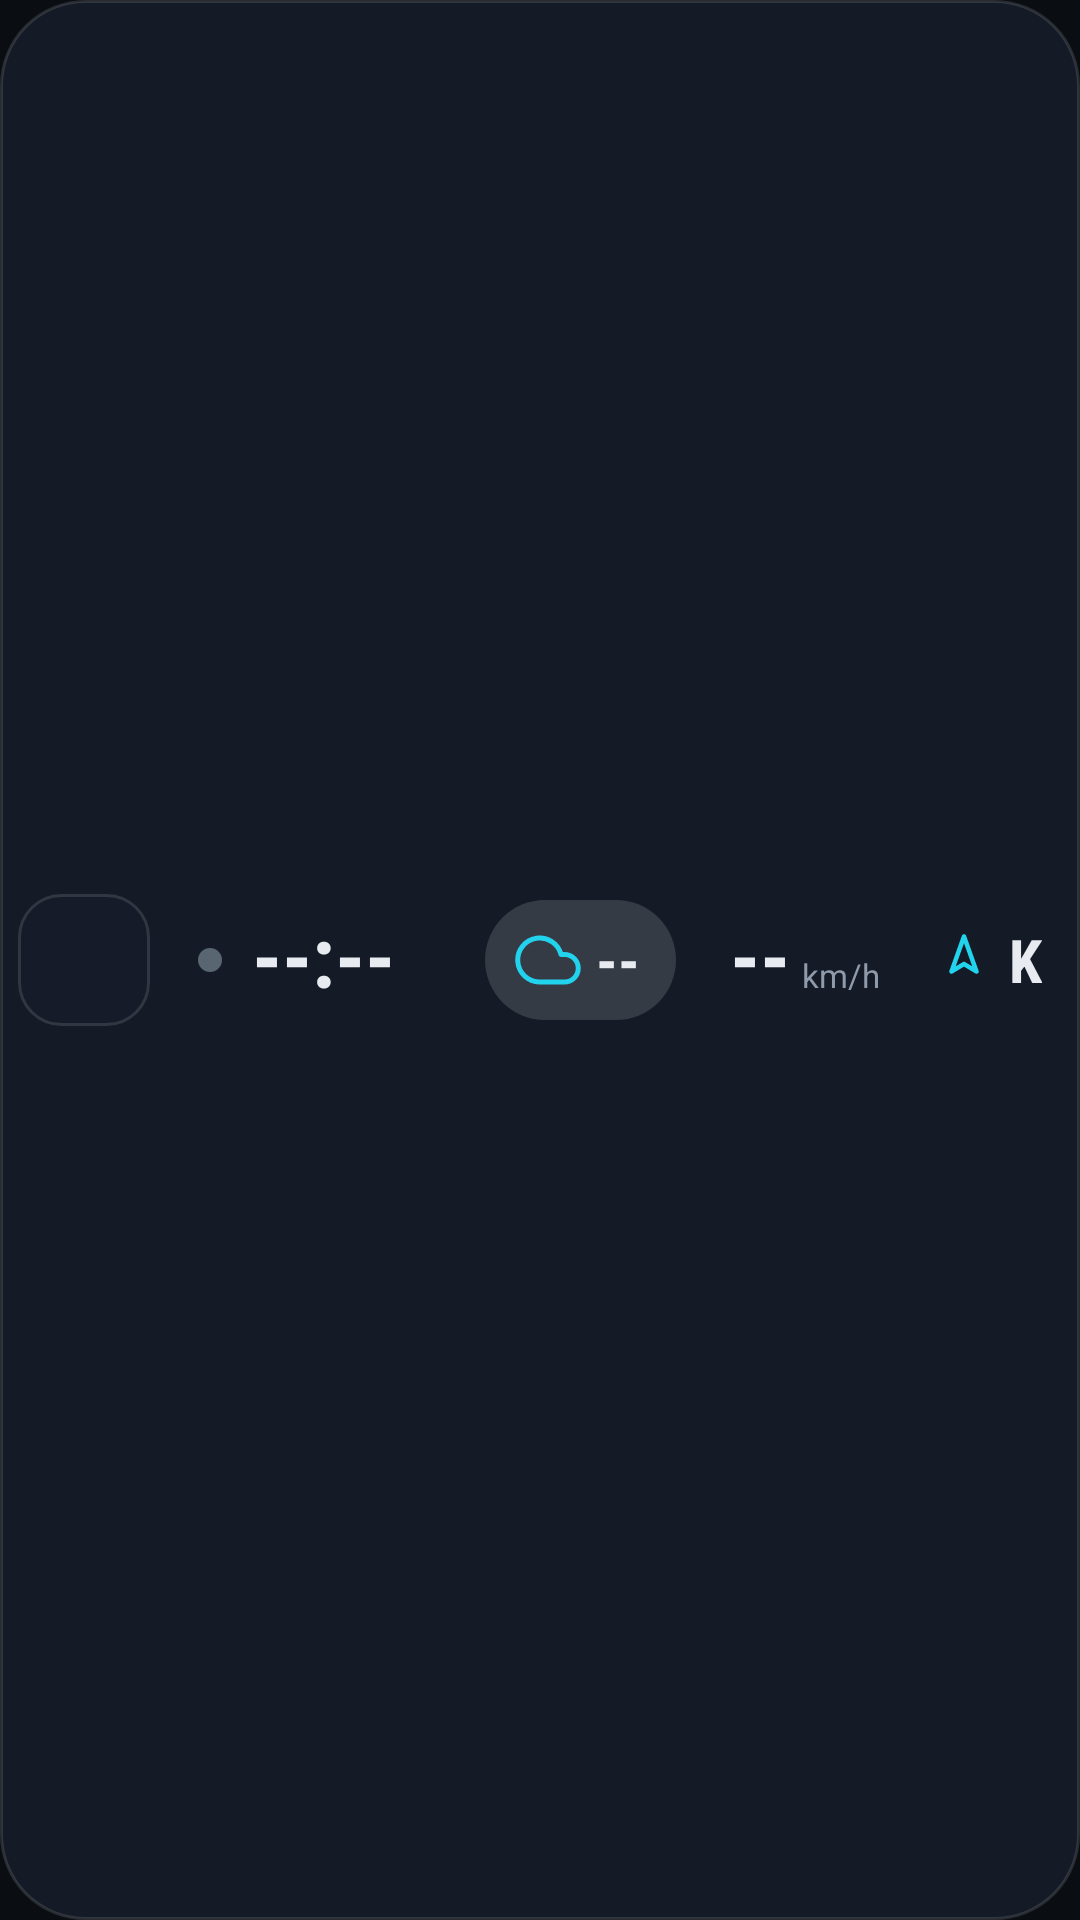

Locate icon controls on the screen. Image size 1080x1920, boxes as detection(x1, y1, x2, y2).
compass: detection(949, 934, 979, 974)
Weather: detection(515, 935, 581, 985)
